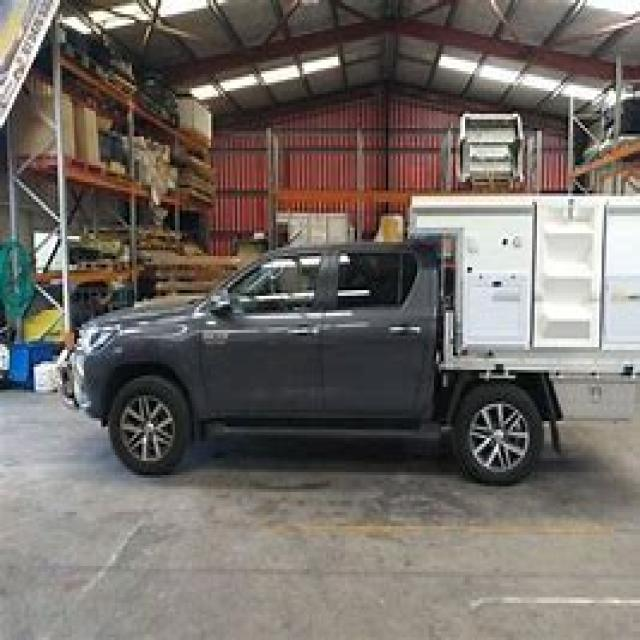light_vehicle: (45, 196, 638, 501)
